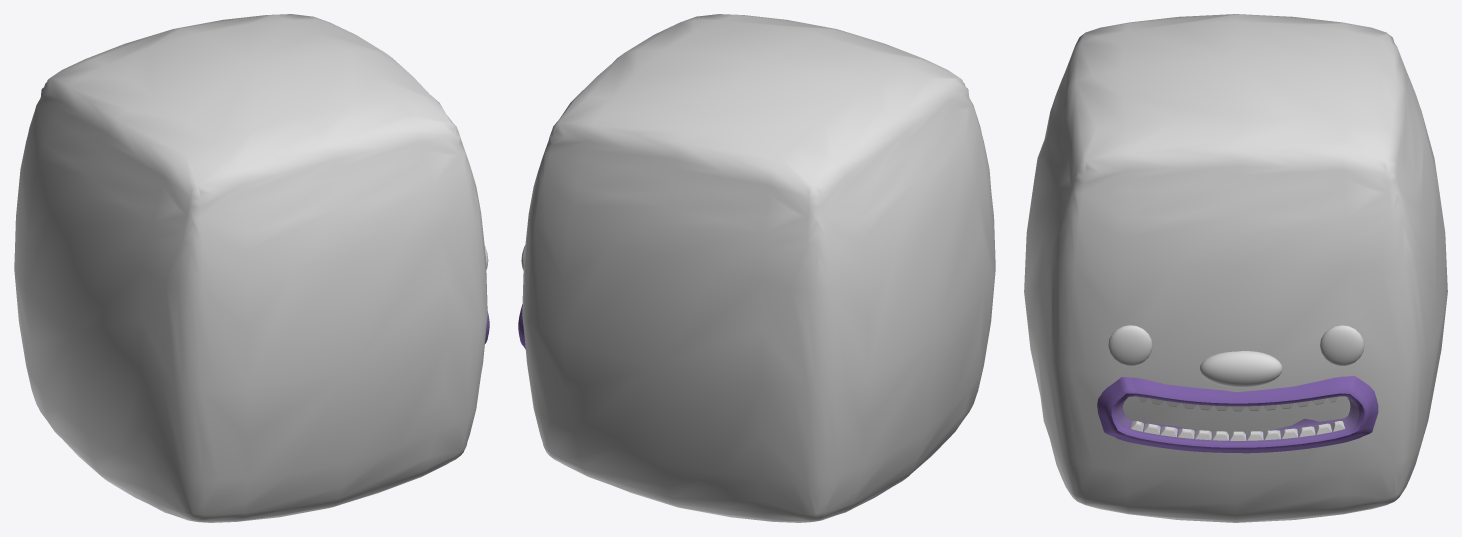
File: creature.FBX
3 renders of one model, left to right at view 1: azimuth 30°, elevation 25°; view 2: azimuth 150°, elevation 25°; view 3: azimuth 270°, elevation 25°, orthographic. The views are drawn at different scales.
Parts seen in each view (by area): view 1: Pet BodyBlock; view 2: Pet BodyBlock; view 3: Pet BodyBlock, Pet Mouth, Nose, Right Eye, Left Eye.
Boxes of the visible parts, left/top/right/bottom form: Pet BodyBlock: left=14, top=14, right=487, bottom=522; Pet BodyBlock: left=522, top=14, right=995, bottom=522; Pet BodyBlock: left=1024, top=14, right=1447, bottom=522; Pet Mouth: left=1097, top=376, right=1378, bottom=453; Nose: left=1199, top=351, right=1282, bottom=387; Right Eye: left=1108, top=325, right=1152, bottom=365; Left Eye: left=1320, top=325, right=1364, bottom=365.
Size of the model in its own units: 81.96 by 86.48 by 79.4.
